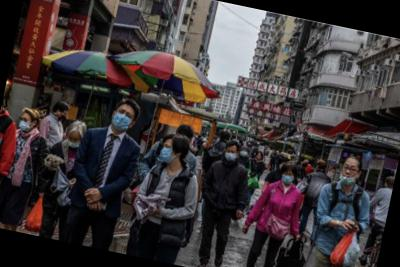mask_weared_incorrect: (339, 162, 361, 186)
with_mask: (111, 106, 135, 134), (158, 142, 177, 166), (18, 115, 34, 133), (65, 134, 82, 150), (223, 148, 238, 165), (280, 171, 297, 186), (59, 111, 68, 122), (240, 149, 249, 158), (302, 161, 309, 168)
without_mask: (256, 153, 263, 161)
